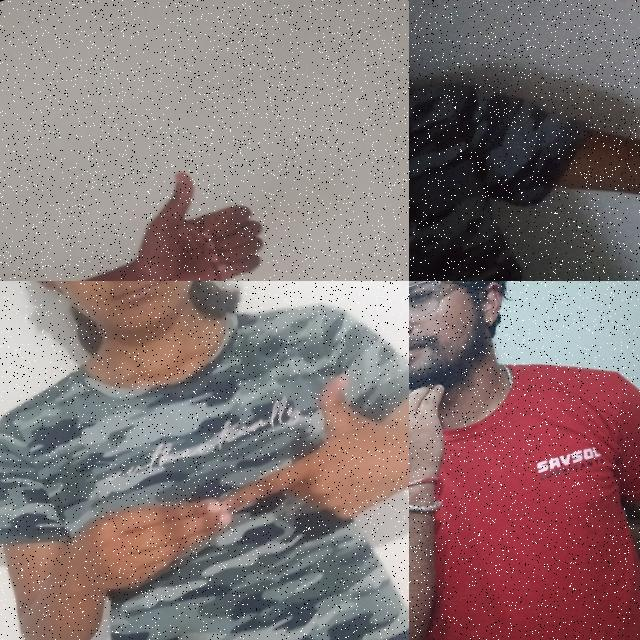Chin Flick: (409, 281, 556, 499)
Five Fathers: (26, 355, 409, 621)
Thumbs Up: (95, 144, 293, 281)
